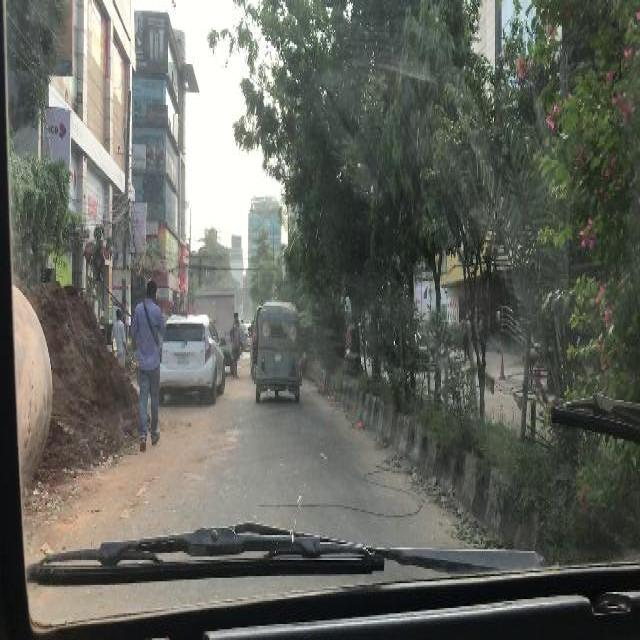car: (160, 313, 227, 398)
motorcycle: (249, 304, 300, 407)
truck: (197, 289, 233, 372)
